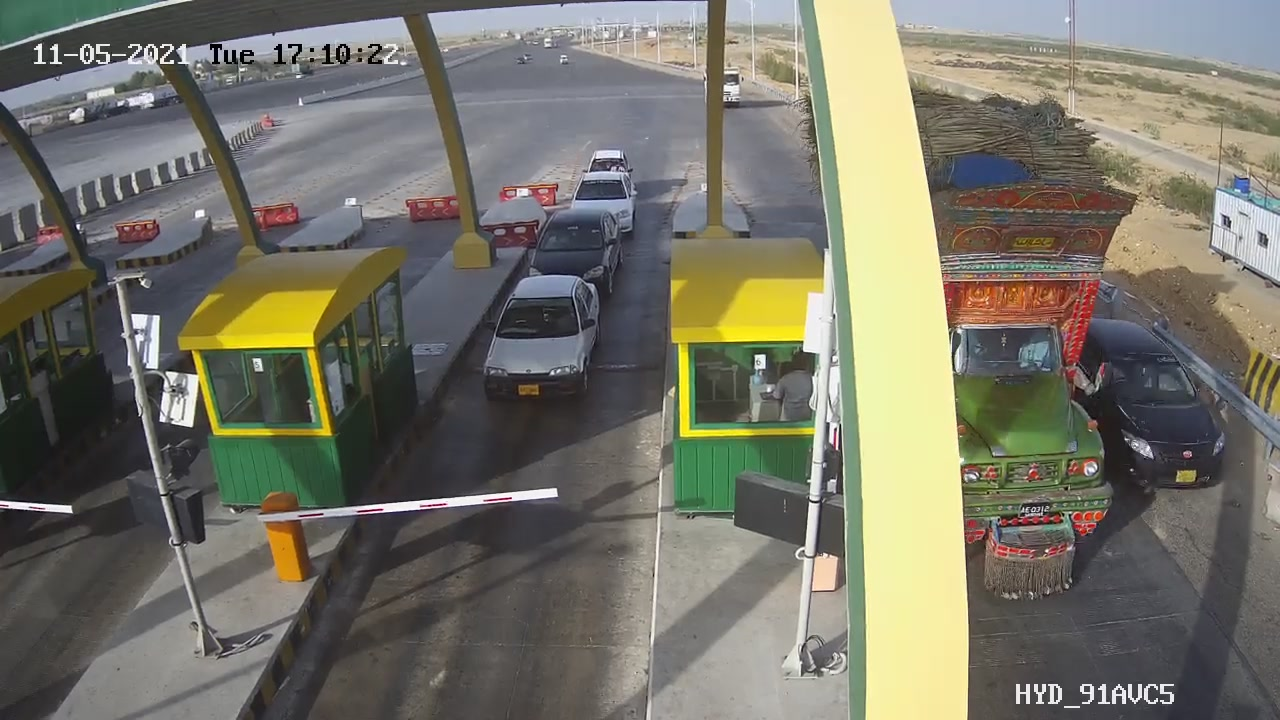F1: (461, 261, 624, 417), (507, 200, 644, 314)
